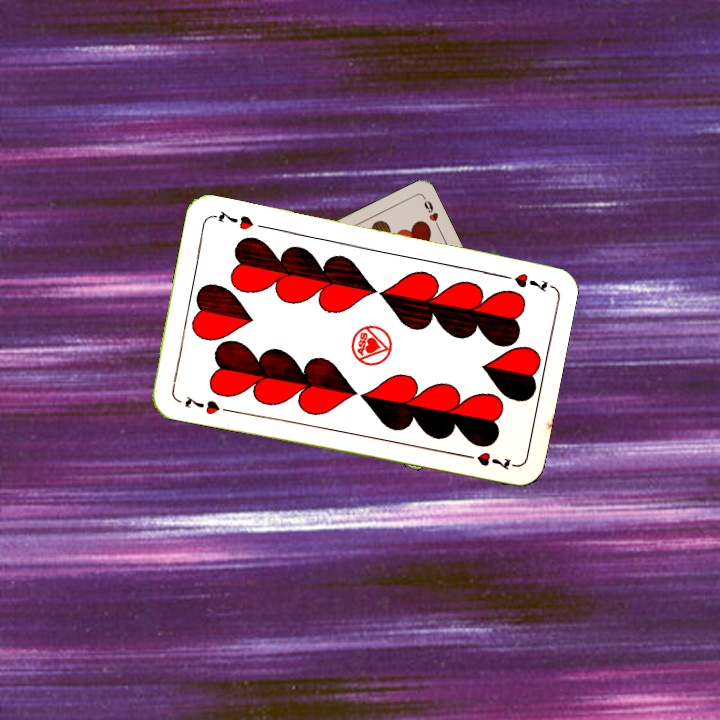H7: (494, 269, 550, 294), (181, 391, 233, 417)
